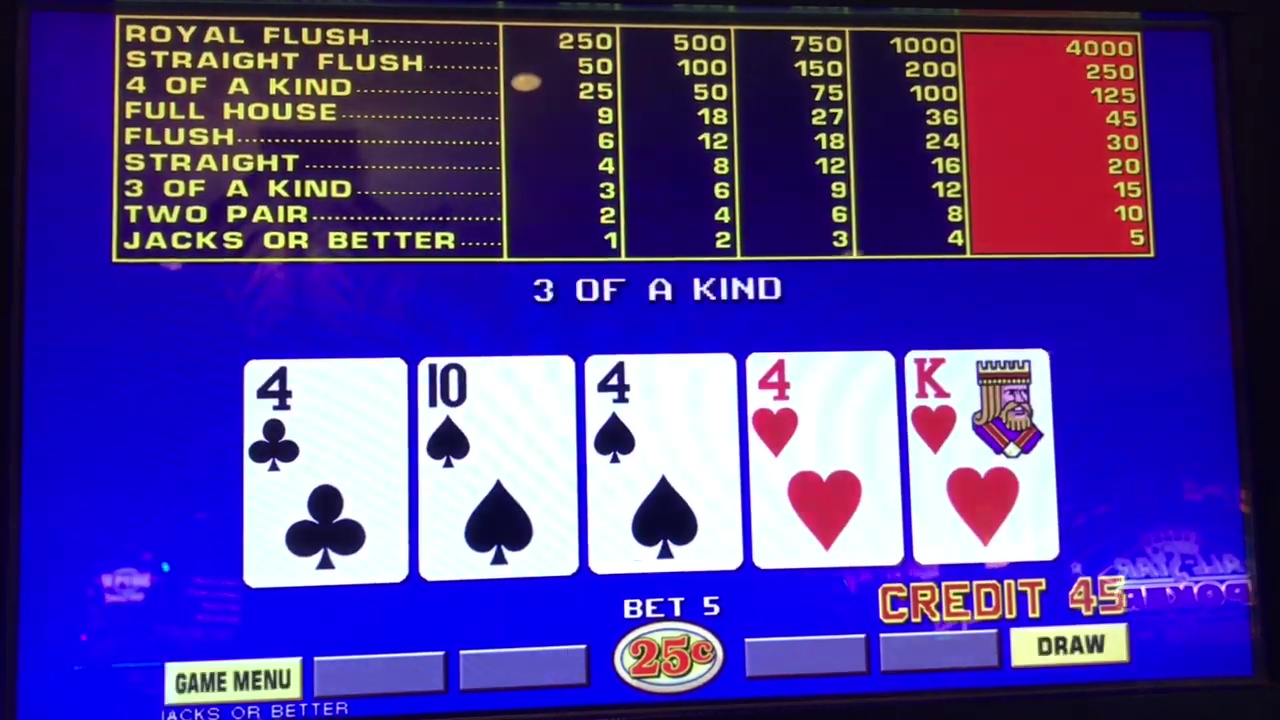C4: (251, 360, 399, 483)
H4: (751, 355, 893, 470)
HK: (909, 354, 1047, 466)
S4: (589, 357, 736, 473)
ST: (422, 355, 573, 475)
